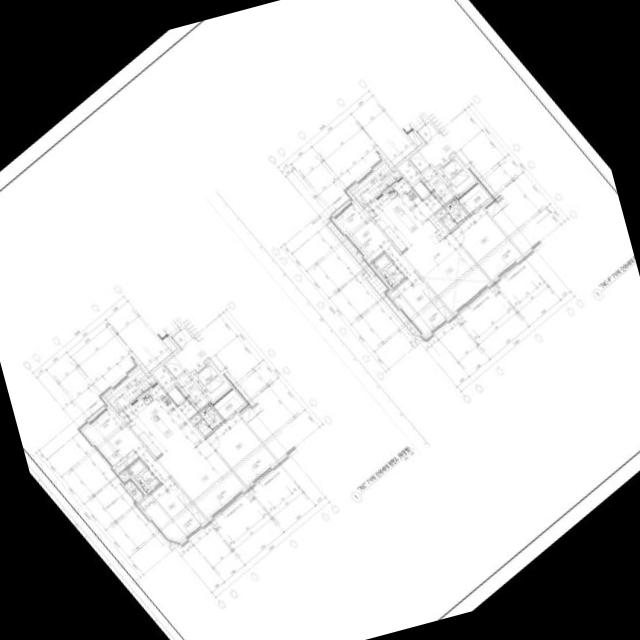background: (0, 0, 640, 640)
space_balconi: (327, 221, 420, 335), (104, 367, 155, 413), (349, 162, 400, 207), (123, 480, 142, 500)
space_bedroom: (451, 207, 522, 280), (206, 412, 276, 485), (83, 407, 155, 472), (139, 477, 206, 542), (390, 272, 451, 336), (335, 202, 400, 261)
space_dressroom: (213, 389, 245, 419), (459, 183, 490, 213)
space_elevator: (192, 360, 230, 400), (437, 155, 475, 194)
space_elevator_hall: (164, 327, 209, 377), (409, 121, 454, 171)
space_front: (177, 372, 210, 410), (422, 167, 455, 205)
space_kitchen: (125, 383, 185, 457), (370, 177, 427, 251)
space_living_room: (149, 399, 245, 518), (394, 193, 490, 312), (168, 386, 185, 404), (413, 181, 430, 199)
space_other: (152, 365, 175, 389), (397, 160, 420, 184), (118, 410, 130, 423), (364, 205, 375, 217), (191, 413, 201, 423), (436, 208, 446, 218), (120, 469, 129, 478)
space_staircase: (428, 214, 449, 241)
space_toilet: (126, 458, 160, 494), (372, 253, 405, 288), (199, 403, 223, 429), (444, 198, 468, 223), (441, 213, 457, 230), (196, 419, 212, 435)
